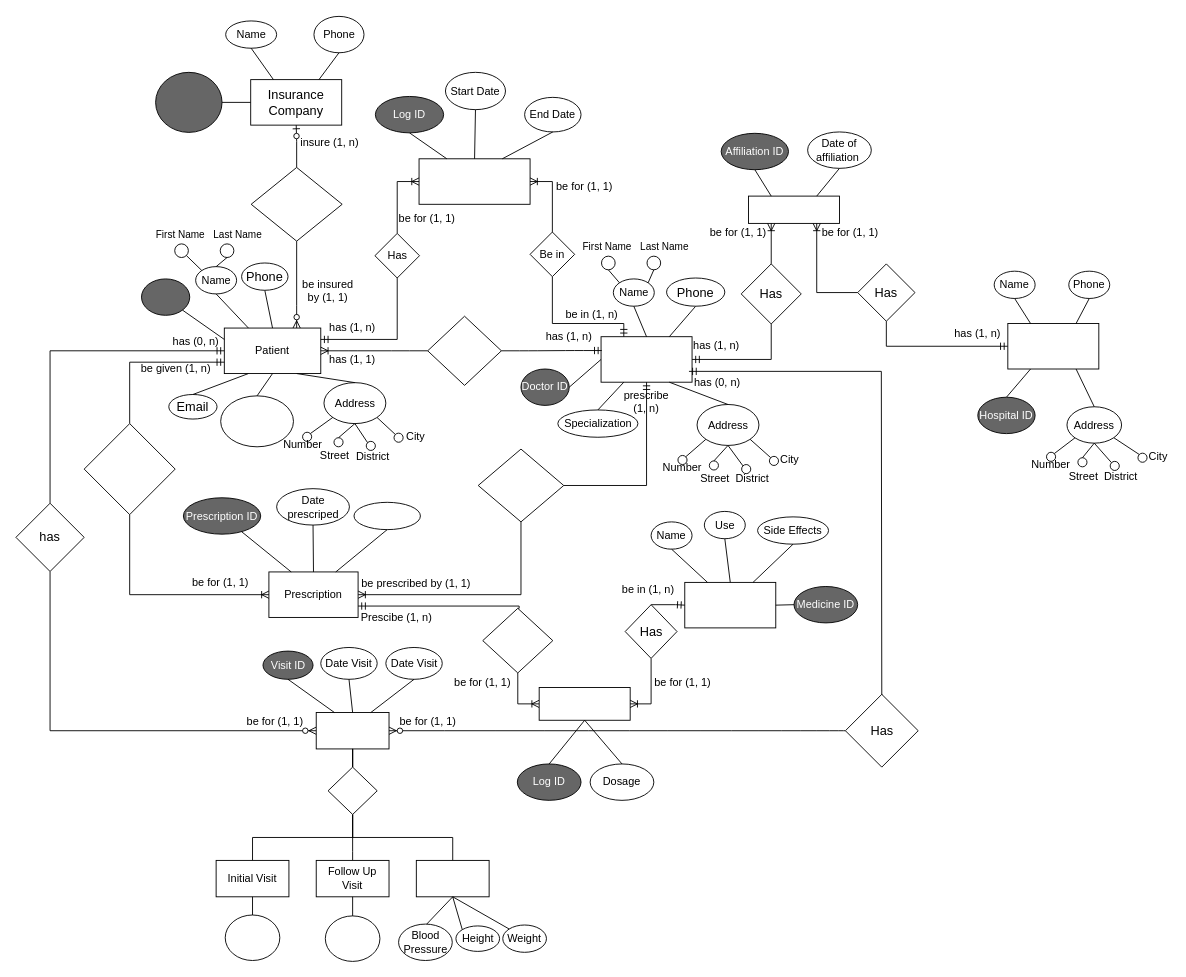
The diagram is 1186 pixels wide and 977 high, and some of its shapes have lost their labels. Each missing label, with the box of its shape:
Affiliation: (748, 195, 839, 223)
Description: (353, 501, 420, 530)
Diagnose Status: (324, 915, 380, 961)
Doctor: (600, 336, 692, 382)
Hospital: (1007, 323, 1099, 369)
Initial Diagnose: (224, 914, 280, 961)
Insurance Company ID: (155, 71, 222, 132)
Insurance ID Number: (220, 395, 293, 447)
insured: (250, 167, 342, 241)
Is A: (327, 766, 377, 814)
Medicine: (684, 581, 776, 628)
Medicine Require: (538, 687, 630, 720)
Patient ID: (141, 278, 190, 315)
Prescirbed for: (83, 423, 175, 515)
Prescribe: (482, 607, 553, 673)
Prescribed: (477, 448, 564, 522)
Primary Care: (427, 315, 501, 385)
Primary Care Doctor History: (418, 158, 530, 204)
Routine Visit: (415, 859, 489, 897)
Visit: (315, 712, 389, 749)
